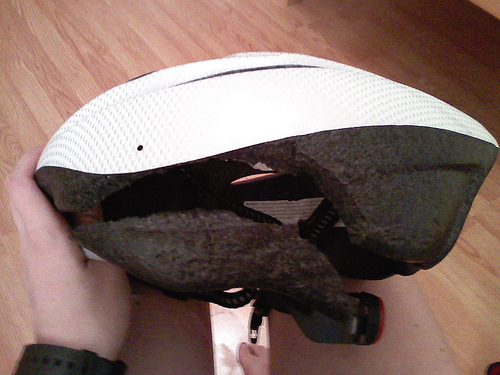helmet: (56, 71, 483, 253)
